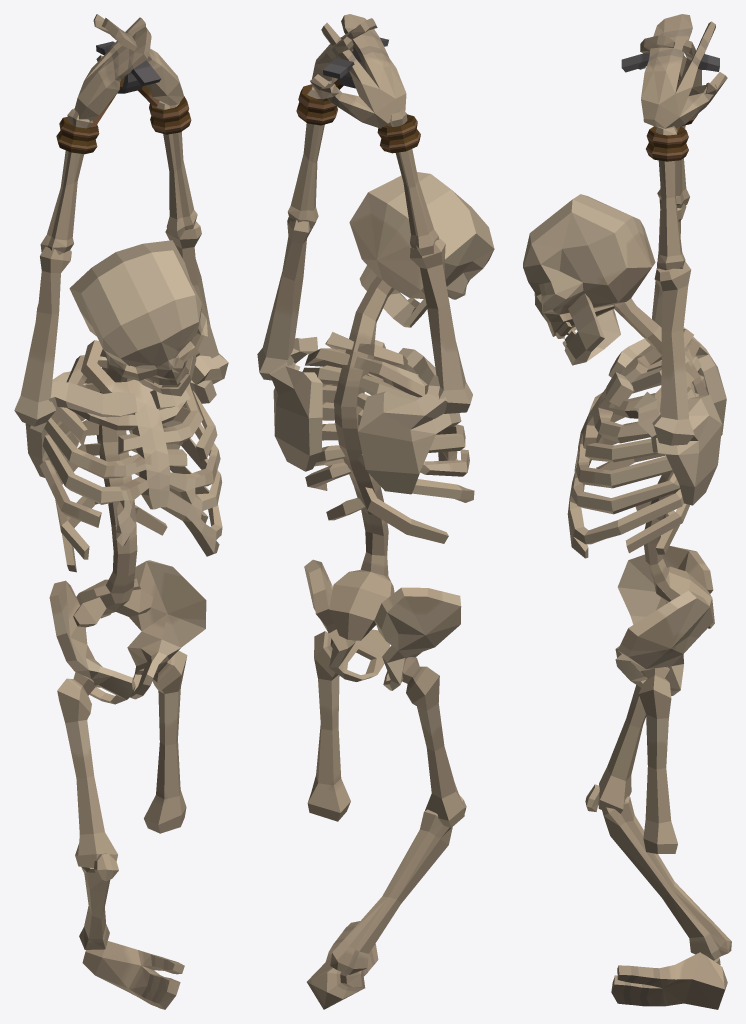
Rendered from bog_skeleton_cage.gltf.
3 renders of one model, left to right at view 1: azimuth 30°, elevation 25°; view 2: azimuth 150°, elevation 25°; view 3: azimuth 270°, elevation 25°, orthographic.
Visible parts, largest first — view 1: bog_skeleton_cage; view 2: bog_skeleton_cage; view 3: bog_skeleton_cage.
Part boxes in pixels (x1=…): bog_skeleton_cage: x1=14, y1=14, x2=228, y2=1009; bog_skeleton_cage: x1=257, y1=14, x2=494, y2=1009; bog_skeleton_cage: x1=523, y1=14, x2=731, y2=1009.
Bounding box in the file's own units: 0.4736 × 2.1 × 0.4035.
1 material, 1 textured.
